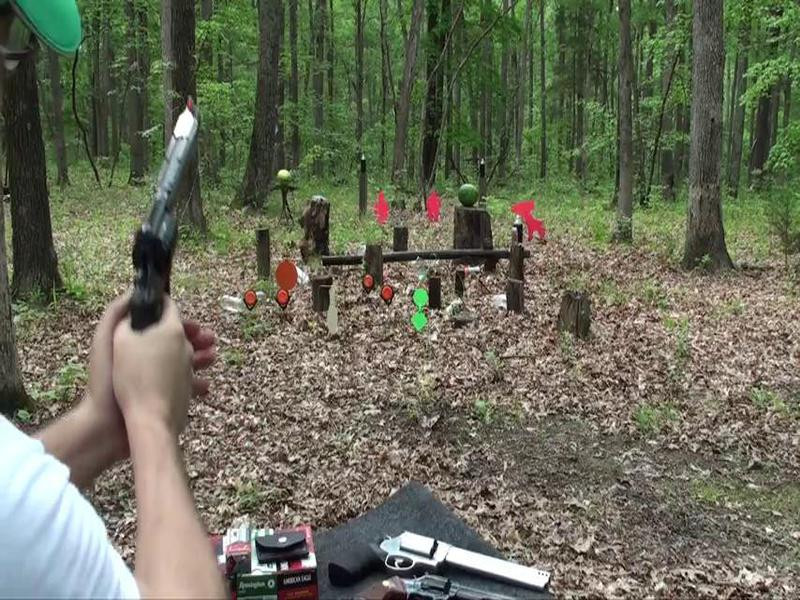Revolver: (112, 95, 218, 383)
